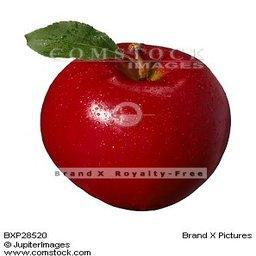apple: (39, 42, 232, 210)
